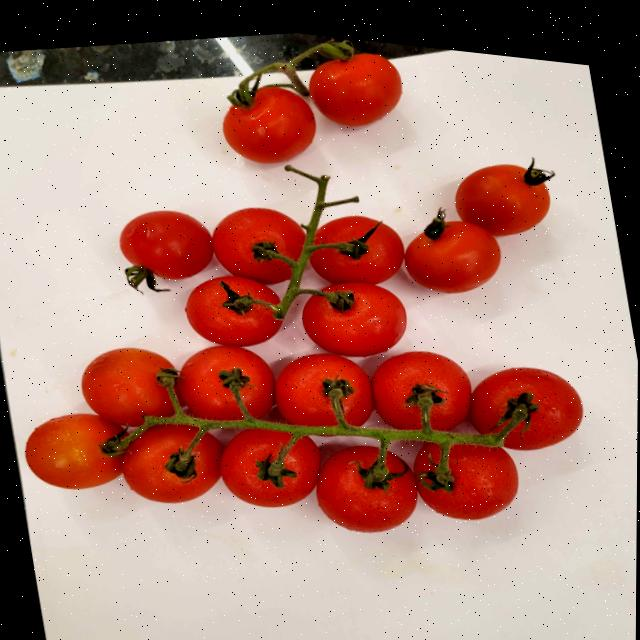ripe2: (469, 367, 582, 450), (316, 446, 417, 532), (117, 424, 223, 502), (413, 443, 518, 519), (371, 351, 471, 430), (302, 282, 406, 357), (220, 429, 320, 507), (175, 345, 275, 420), (25, 413, 122, 488), (81, 348, 174, 426), (222, 86, 316, 163), (404, 217, 500, 292), (275, 353, 373, 426), (212, 208, 305, 284), (455, 164, 550, 236), (185, 275, 281, 346), (308, 54, 401, 126), (310, 215, 404, 284), (120, 211, 213, 279)
